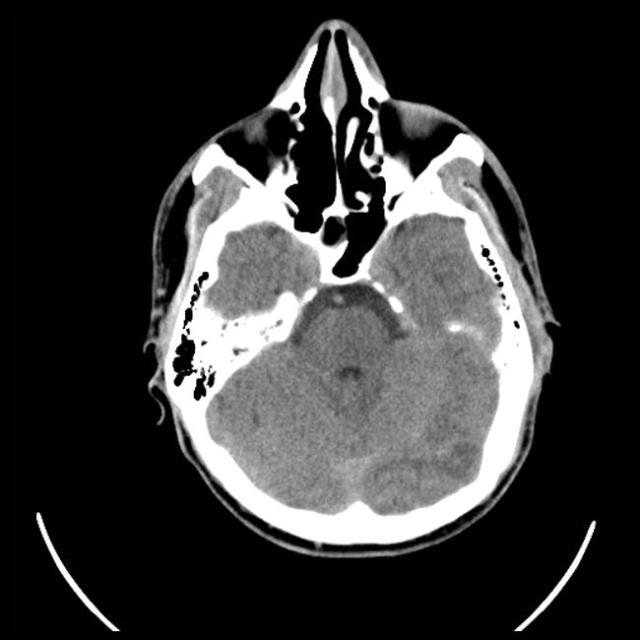lesion: (140, 18, 562, 557)
